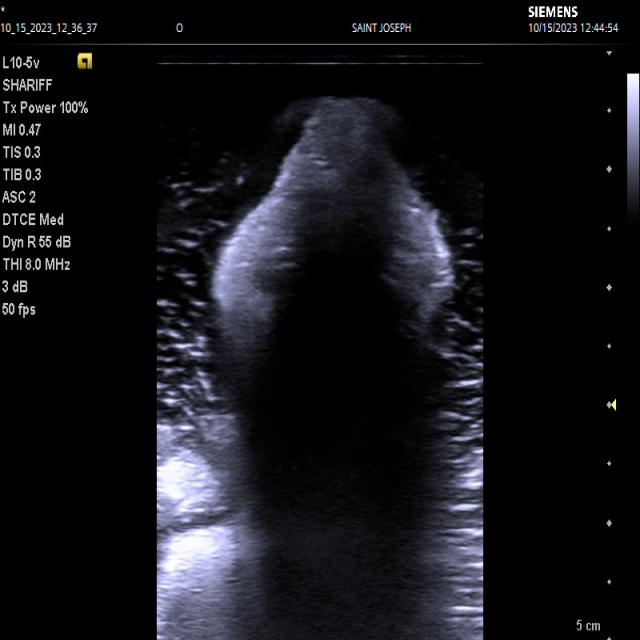tissue: (157, 99, 483, 640)
